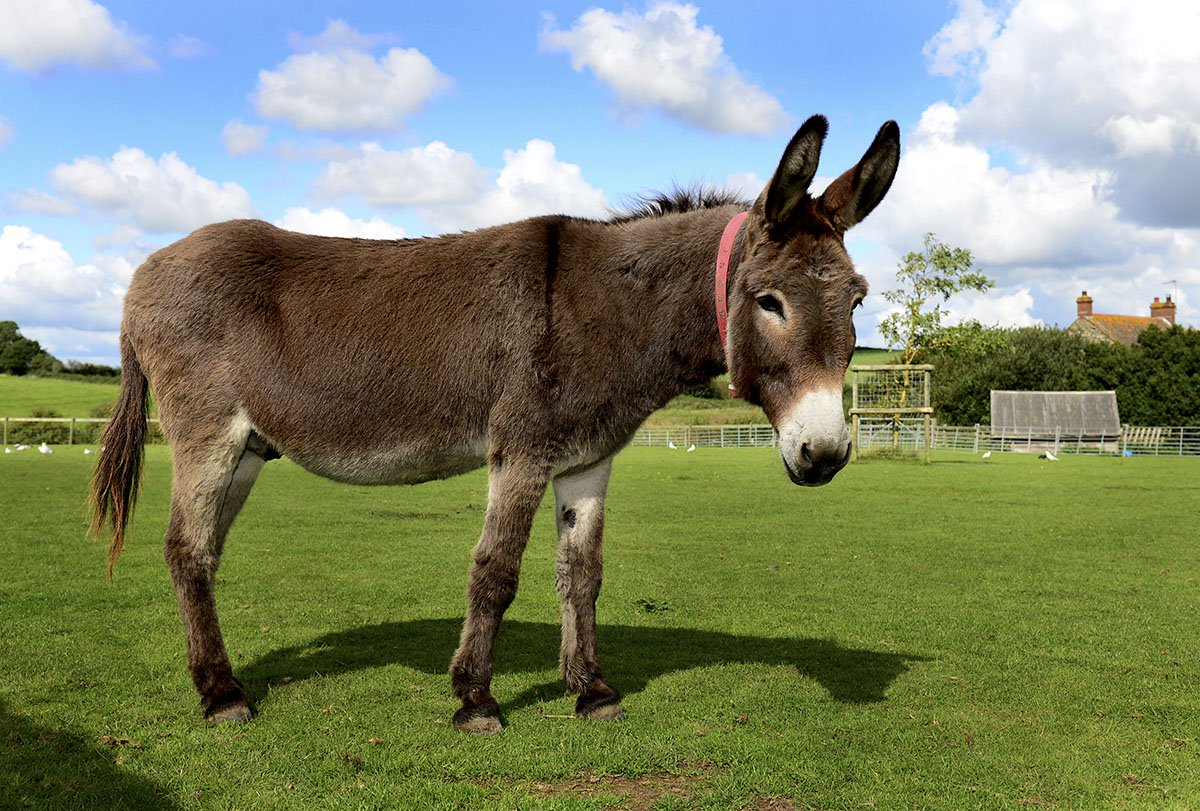donkey: (102, 105, 904, 742)
